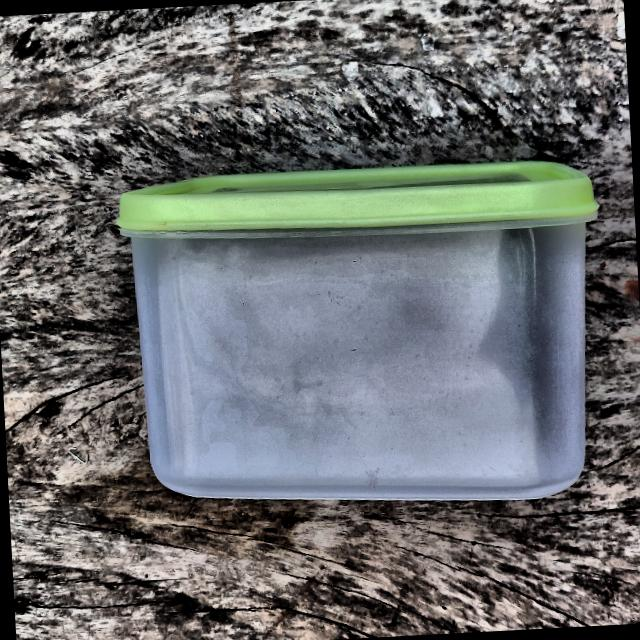plastic container: (108, 142, 617, 541)
